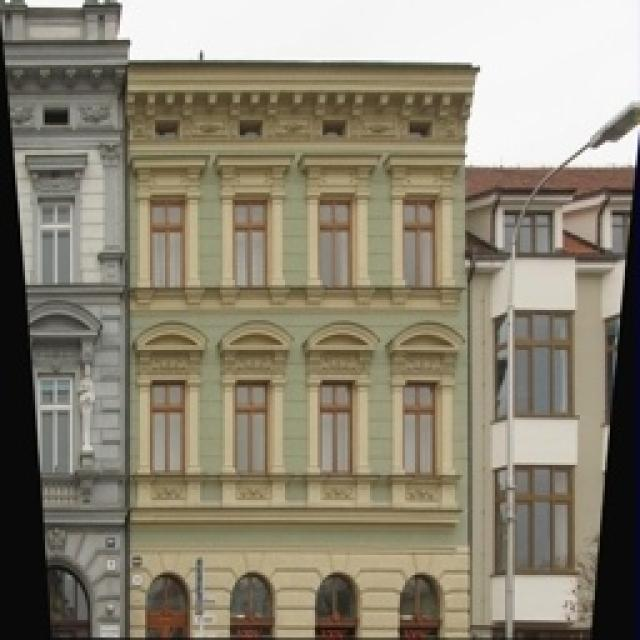building: (125, 55, 463, 635), (455, 150, 640, 640), (0, 0, 130, 640)
